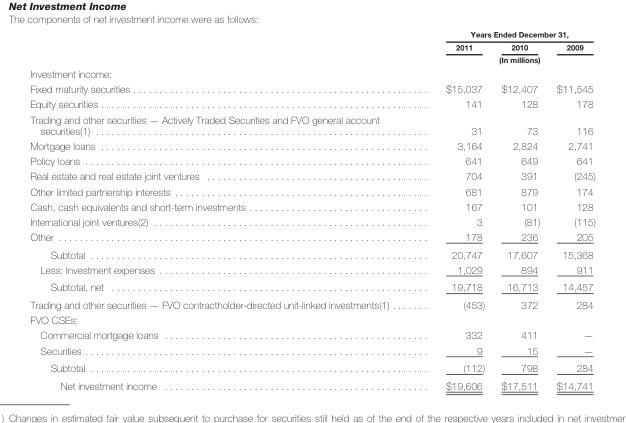table: (29, 29, 594, 391)
table column: (29, 29, 416, 391), (416, 29, 492, 391), (492, 29, 547, 391), (547, 29, 594, 391)
table column header: (29, 29, 594, 65)
table projected row header: (29, 65, 594, 81), (29, 312, 594, 327)
table row: (29, 111, 594, 138), (29, 228, 594, 245), (29, 261, 594, 278), (29, 278, 594, 295), (29, 295, 594, 312), (29, 342, 594, 359), (29, 359, 594, 376), (29, 65, 594, 81), (29, 245, 594, 261), (29, 81, 594, 96), (29, 96, 594, 111), (29, 138, 594, 153), (29, 153, 594, 168), (29, 168, 594, 183), (29, 183, 594, 198), (29, 198, 594, 213), (29, 213, 594, 228), (29, 312, 594, 327), (29, 327, 594, 342), (29, 376, 594, 391), (29, 40, 594, 53), (29, 53, 594, 65), (29, 29, 594, 40)
table spanning cell: (416, 53, 594, 65), (416, 29, 594, 40)
